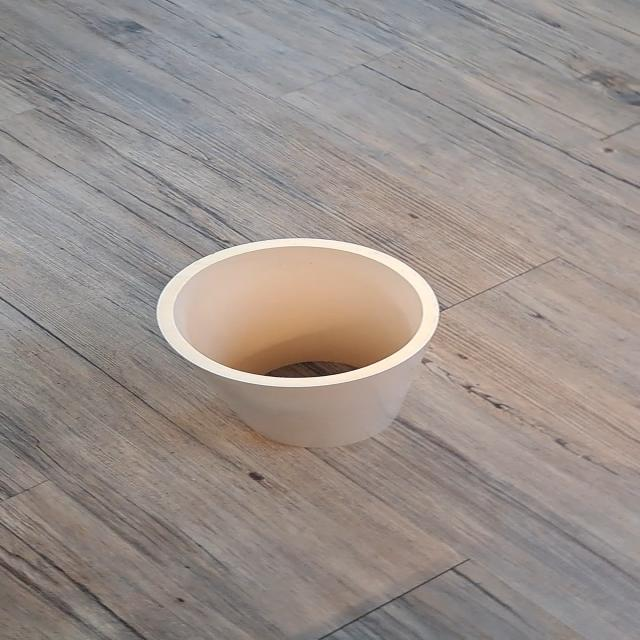CORAL: (113, 225, 476, 470)
